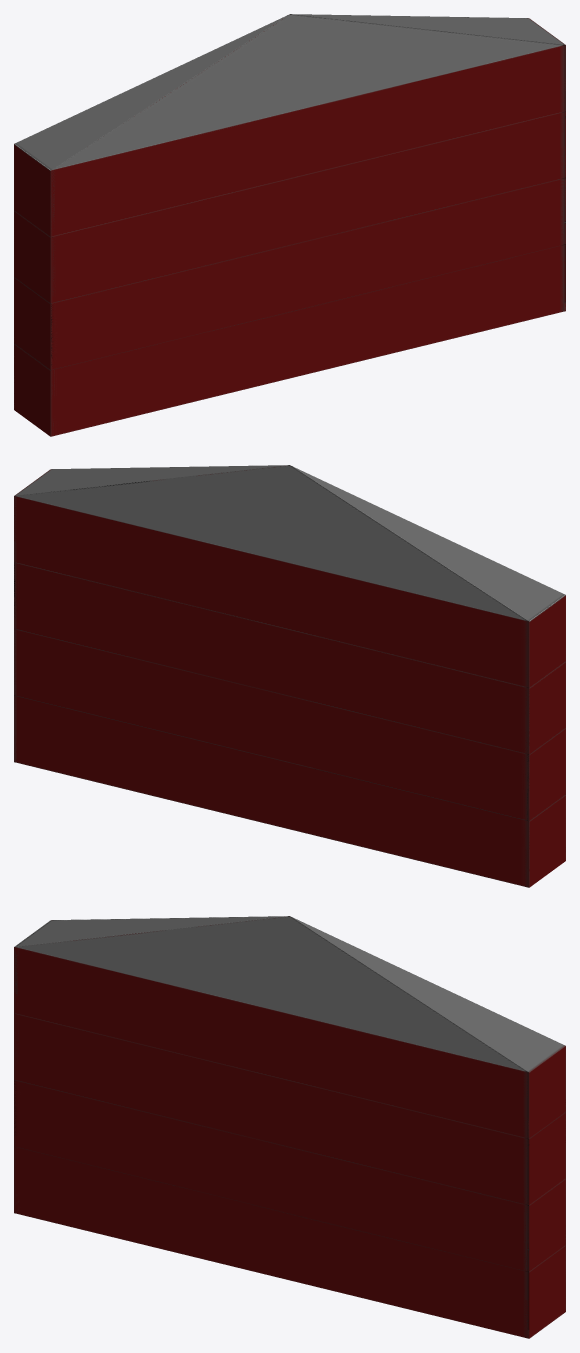
File: 1_BUILDING.obj
The picture shows the model from 3 angles, top to bottom: view 1: azimuth 30°, elevation 25°; view 2: azimuth 150°, elevation 25°; view 3: azimuth 330°, elevation 25°; orthographic projection.
Parts seen in each view (by area): view 1: Cube_Cube.001; view 2: Cube_Cube.001; view 3: Cube_Cube.001.
Part boxes in pixels (bbox=[...]): Cube_Cube.001: bbox=[14, 14, 565, 436]; Cube_Cube.001: bbox=[14, 465, 565, 887]; Cube_Cube.001: bbox=[14, 916, 565, 1338].
Size of the model in its own units: 16.21 by 10.42 by 2.
